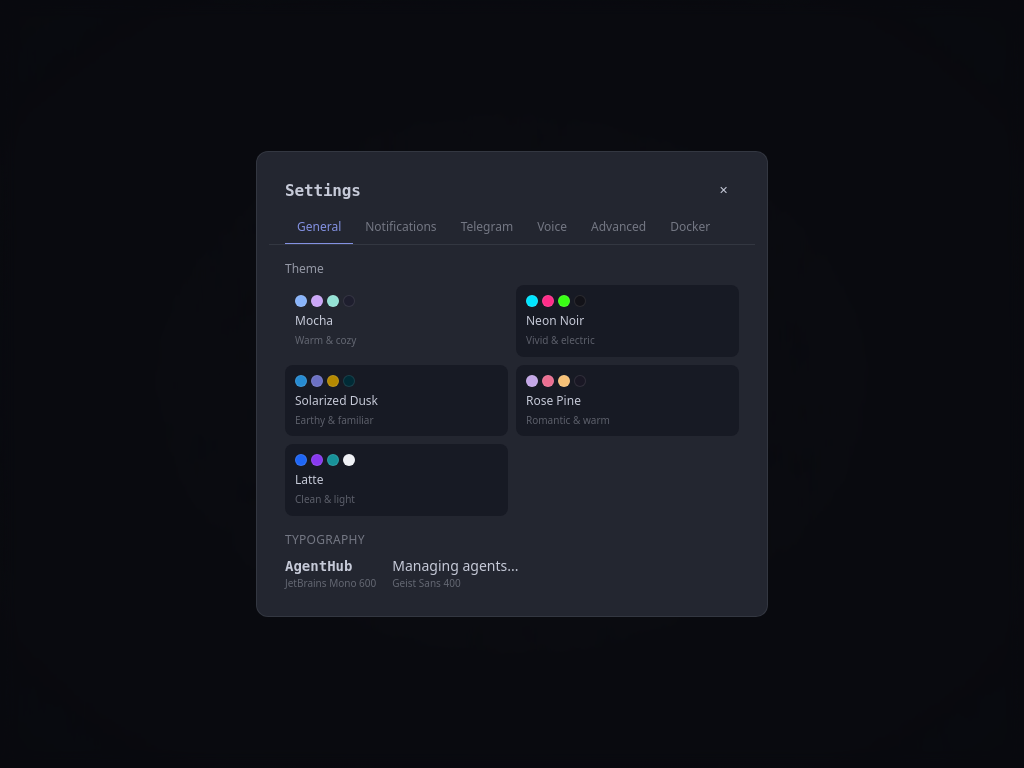
Test case: SettingsPanel › renders export button in advanced tab
This screenshot has width=1024, height=768.
Click the button "advanced".
click(619, 228)  # box x1=579 y1=211 x2=658 y2=245
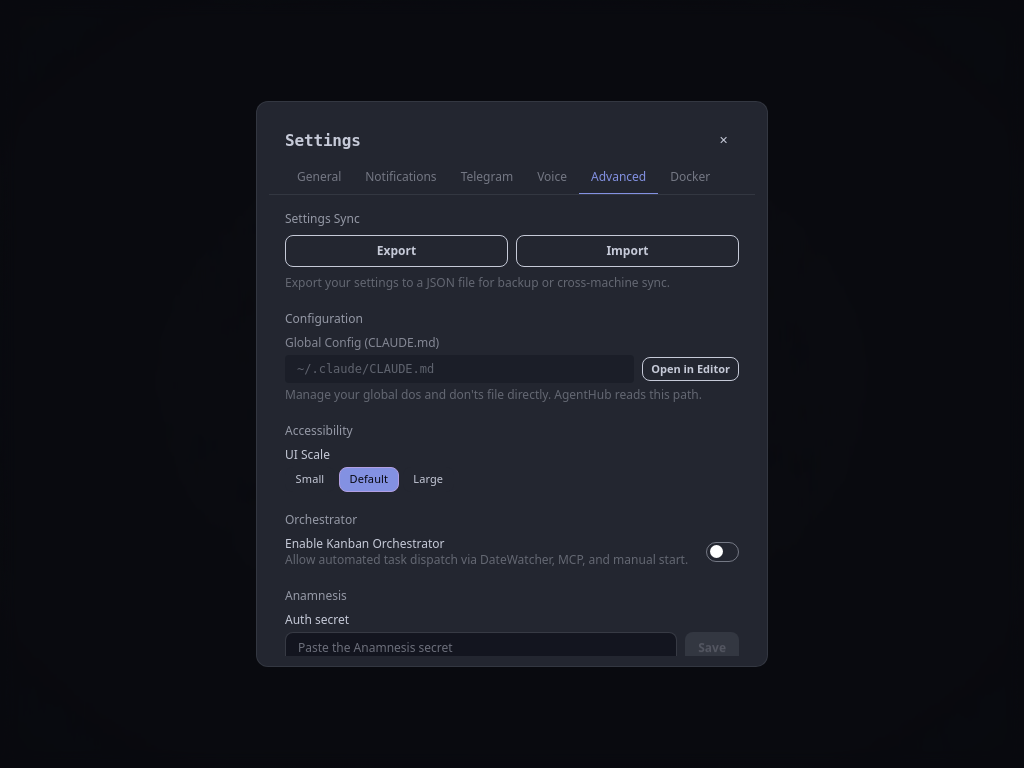
Now the button with test id "settings-export" is shown, box x1=285 y1=235 x2=508 y2=267
